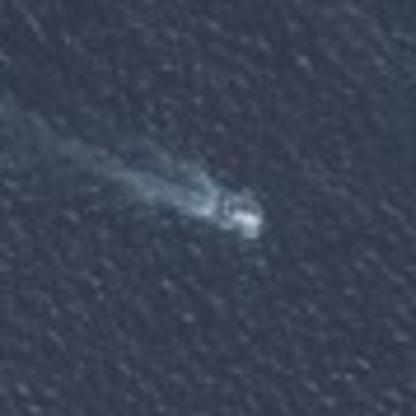ship: (212, 176, 272, 244)
